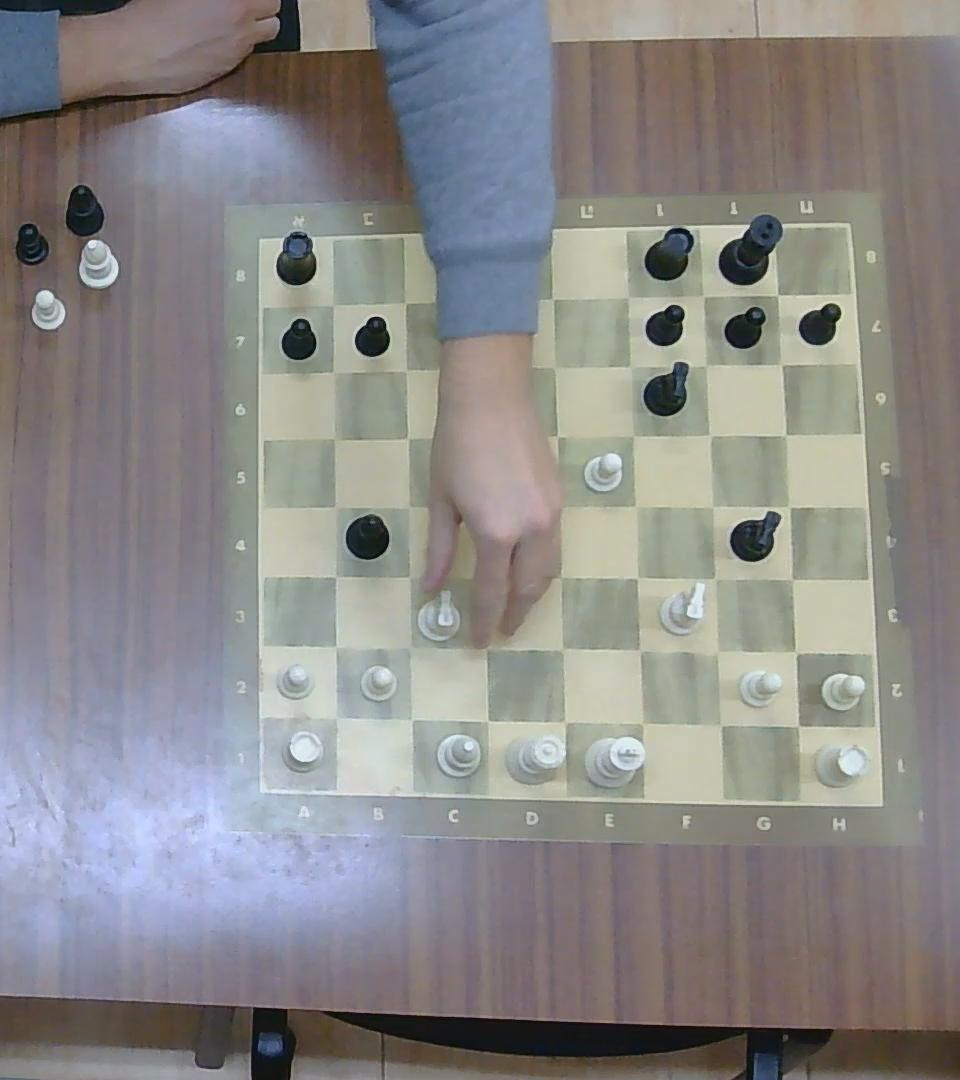xcorner: (702, 707, 736, 740), (624, 705, 658, 738), (701, 635, 734, 667), (546, 631, 578, 664), (781, 709, 813, 741), (548, 704, 579, 736), (624, 633, 655, 665), (470, 704, 501, 736), (470, 632, 501, 663), (393, 632, 424, 663), (320, 701, 350, 733), (395, 703, 425, 734), (621, 561, 651, 592), (780, 636, 811, 666), (393, 561, 423, 592), (465, 283, 495, 313), (320, 631, 350, 660), (776, 564, 806, 593), (467, 421, 495, 452), (545, 562, 574, 591), (699, 564, 728, 593), (621, 491, 650, 520), (320, 561, 349, 589), (537, 284, 566, 312), (614, 282, 642, 311), (394, 491, 422, 520), (467, 562, 495, 591), (617, 421, 645, 449), (698, 492, 727, 519), (615, 352, 644, 379), (318, 291, 345, 319), (774, 492, 802, 519), (546, 491, 572, 520), (318, 357, 345, 384), (320, 423, 347, 450), (543, 420, 570, 447), (471, 491, 496, 520), (692, 351, 718, 377), (690, 282, 716, 308), (394, 424, 420, 449), (540, 353, 566, 378), (696, 421, 722, 446), (768, 350, 794, 375), (323, 493, 348, 518), (465, 355, 490, 380), (765, 283, 791, 307), (773, 421, 798, 445), (393, 357, 417, 381), (393, 290, 417, 313)
